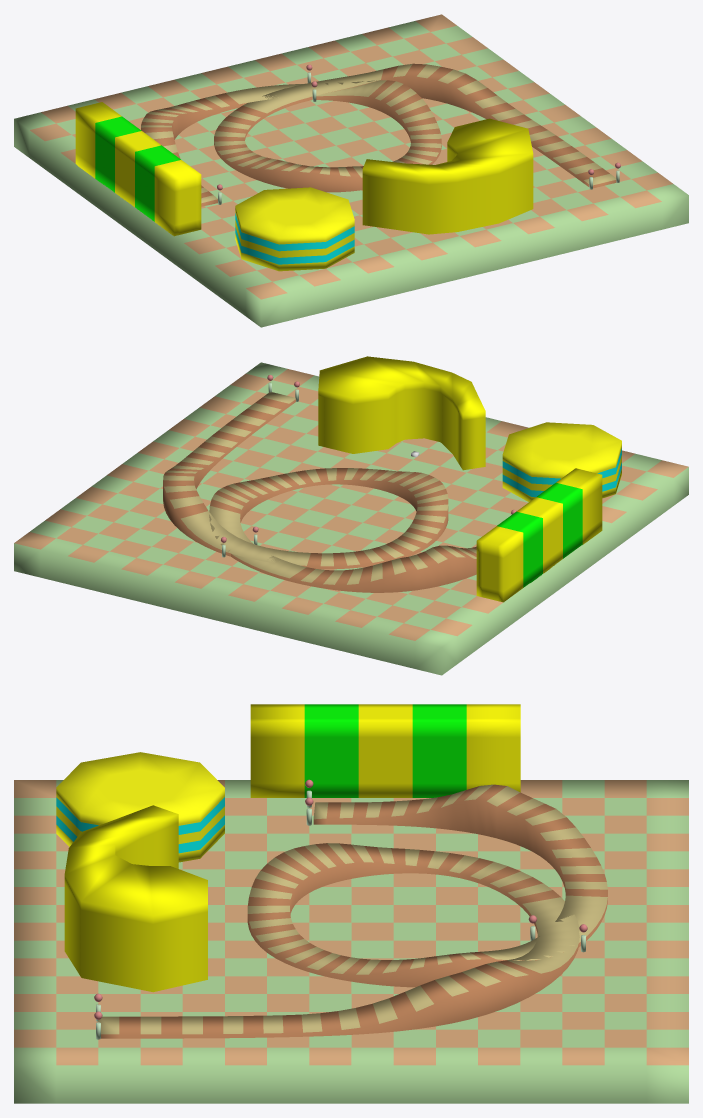
3 views of the same model, one above another, from view 1: azimuth 30°, elevation 25°; view 2: azimuth 150°, elevation 25°; view 3: azimuth 270°, elevation 25° (orthographic). The views are drawn at different scales.
Parts seen in each view (by area): view 1: object_0004D480, object_000532DC, object_00054858, object_00045AD0, object_0004E014; view 2: object_0004D480, object_000532DC, object_00054858, object_00045AD0, object_0004E014; view 3: object_0004D480, object_000532DC, object_00045AD0, object_00054858, object_0004E014.
Part boxes in pixels (x1,y1,x2,y2): object_0004D480: (14,14,688,327); object_000532DC: (141,63,616,206); object_00054858: (362,118,533,234); object_00045AD0: (75,102,201,236); object_0004E014: (235,187,354,271); object_0004D480: (14,362,688,675); object_000532DC: (163,392,476,592); object_00054858: (318,356,485,470); object_00045AD0: (476,468,602,602); object_0004E014: (502,422,621,501); object_0004D480: (14,780,688,1103); object_000532DC: (98,784,607,1038); object_00045AD0: (250,704,520,797); object_00054858: (64,805,207,992); object_0004E014: (56,752,224,862).
Size of the model in its own units: 80000 by 15001 by 80000.
